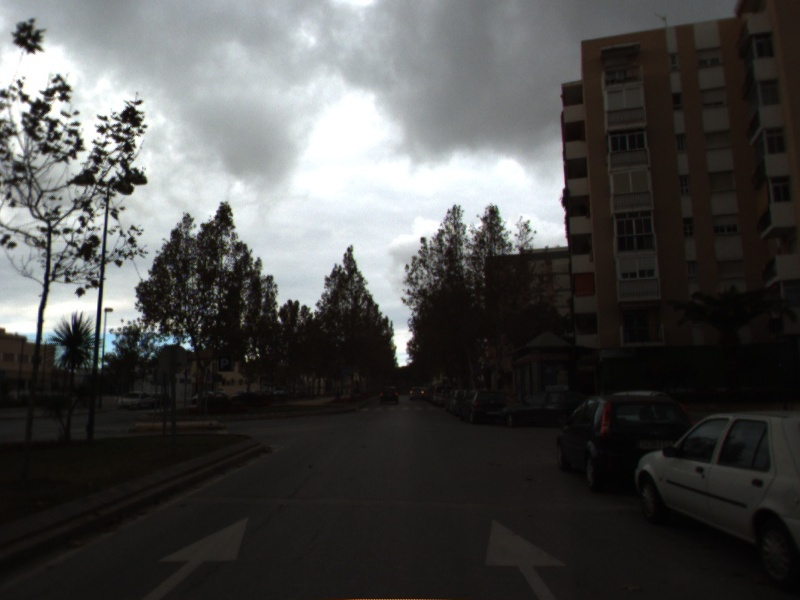STRAIGHT: (137, 512, 252, 600), (479, 513, 574, 600)
